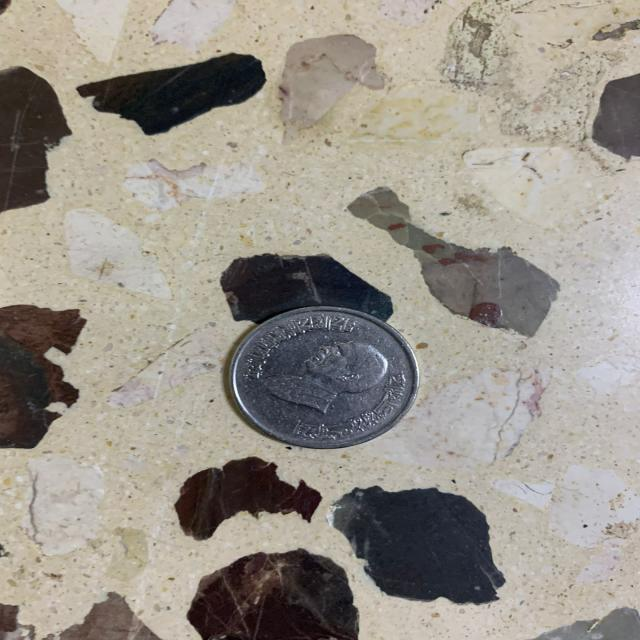10-coins: (226, 304, 420, 451)
